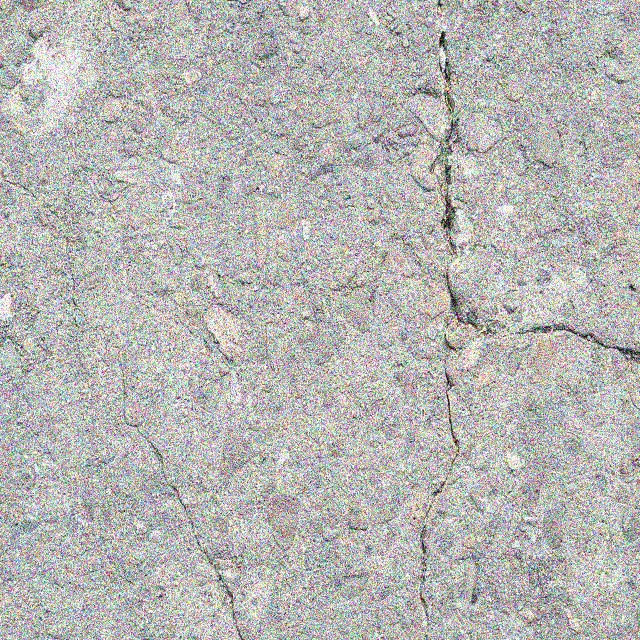SurfaceCrack: (373, 0, 518, 640)
